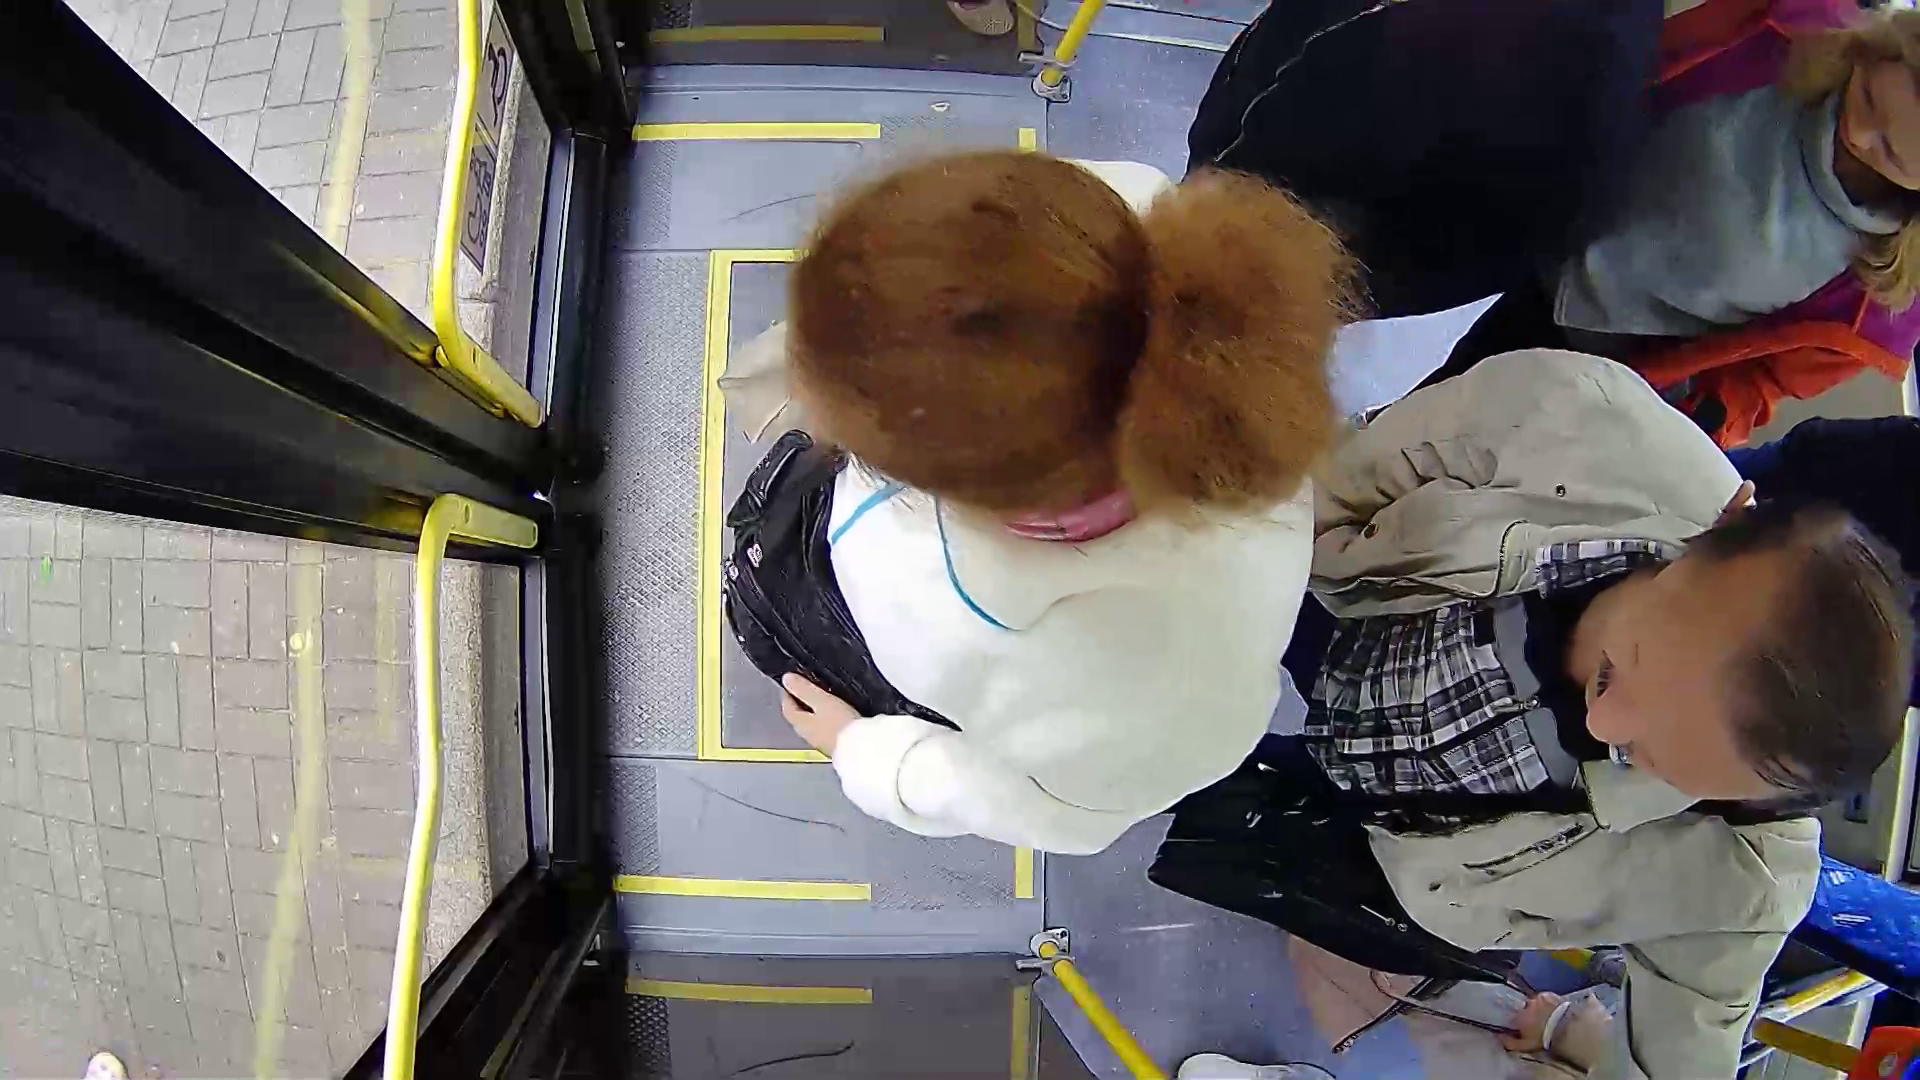person: (700, 169, 1334, 828), (1360, 361, 1868, 1013)
